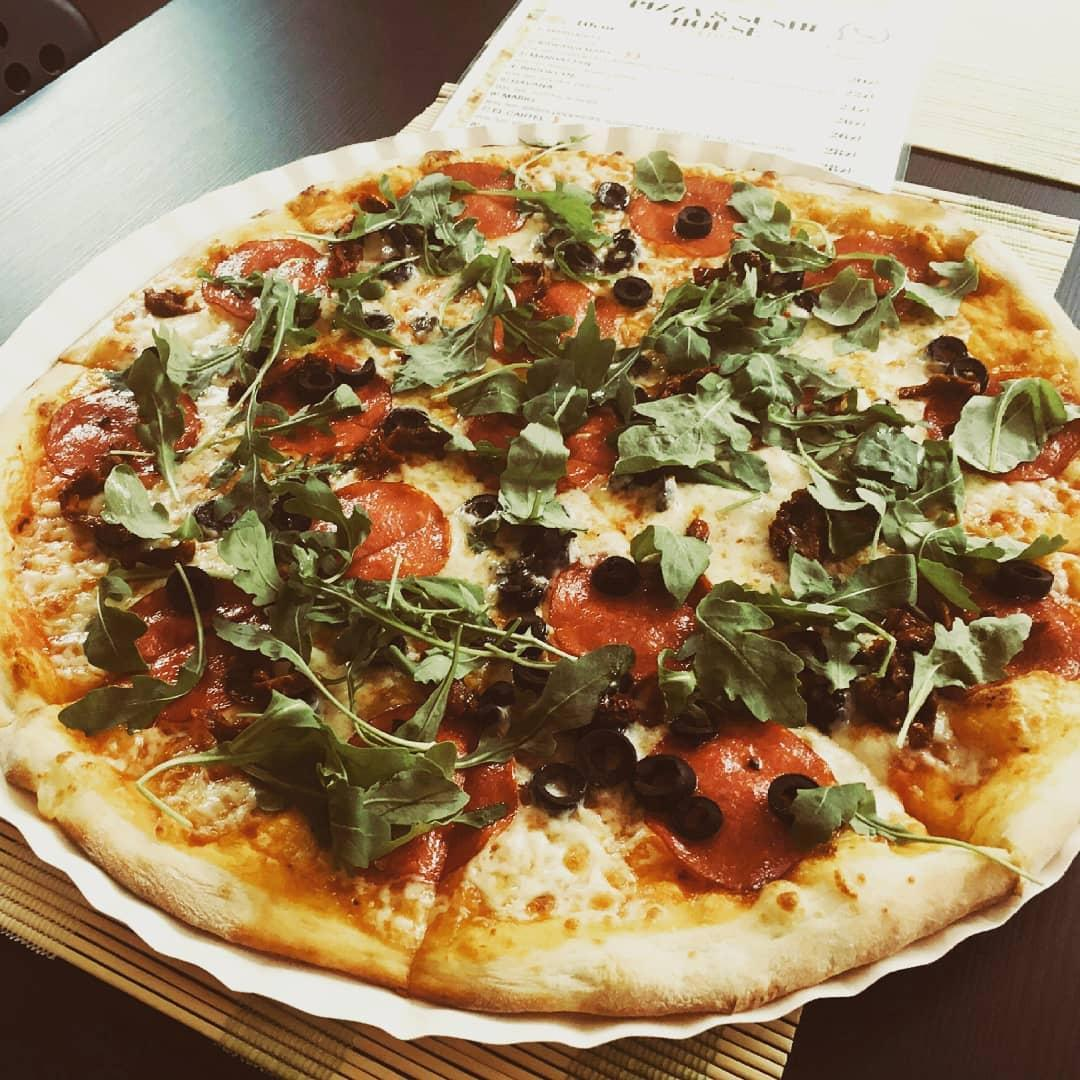Arugula: (128, 686, 514, 878), (208, 619, 640, 769), (98, 257, 309, 551), (205, 518, 535, 698), (451, 240, 620, 537), (609, 349, 938, 497), (766, 491, 1071, 629), (629, 580, 888, 734), (656, 170, 855, 368), (783, 778, 1049, 898), (57, 547, 209, 749), (877, 610, 1029, 747), (809, 245, 999, 352), (312, 166, 493, 277), (468, 175, 616, 291), (949, 365, 1075, 480), (310, 258, 427, 345), (615, 522, 721, 599), (624, 147, 706, 219)
Olives: (844, 672, 936, 728), (628, 747, 707, 806), (574, 726, 638, 788), (666, 791, 727, 844), (667, 693, 732, 741), (166, 560, 218, 619), (773, 618, 834, 666), (760, 773, 826, 817), (590, 549, 647, 598), (994, 556, 1058, 599), (533, 758, 587, 808), (796, 670, 839, 730), (383, 402, 438, 442), (288, 364, 344, 402), (919, 328, 973, 367), (186, 491, 239, 529), (670, 200, 719, 240), (461, 490, 512, 526), (498, 582, 553, 615), (510, 644, 548, 688), (610, 273, 657, 308), (335, 349, 380, 385), (954, 355, 992, 395), (601, 231, 634, 274), (557, 232, 594, 268), (518, 530, 557, 563), (595, 178, 633, 210), (379, 219, 409, 253), (357, 307, 392, 332)
Pepperoni: (633, 700, 849, 896), (326, 691, 530, 884), (92, 566, 298, 741), (537, 559, 717, 686), (912, 358, 1080, 489), (912, 563, 1080, 688), (232, 353, 397, 475), (300, 463, 457, 586), (41, 381, 205, 493), (451, 392, 628, 493), (462, 265, 626, 371), (799, 227, 947, 324), (193, 235, 347, 325), (621, 167, 755, 258), (405, 154, 538, 241)
Pizza: (0, 113, 1080, 1015)
